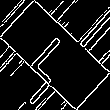L_NE: (27, 26, 83, 84)
